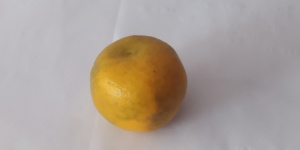BAD: (86, 34, 190, 134)
